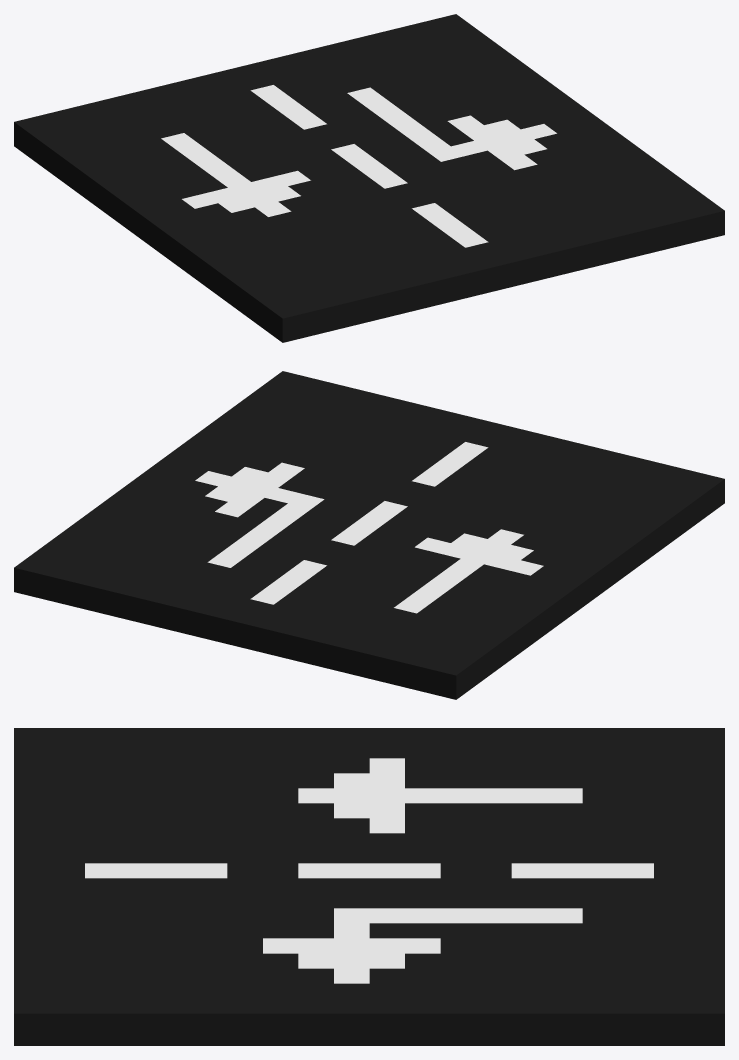
File: ConstructionMaterials-65.obj
3 renders of one model, top to bottom at view 1: azimuth 30°, elevation 25°; view 2: azimuth 150°, elevation 25°; view 3: azimuth 270°, elevation 25°, orthographic. The views are drawn at different scales.
Bounding box in the file's own units: 1.9 × 0.1 × 2.
1 material, 1 textured.
